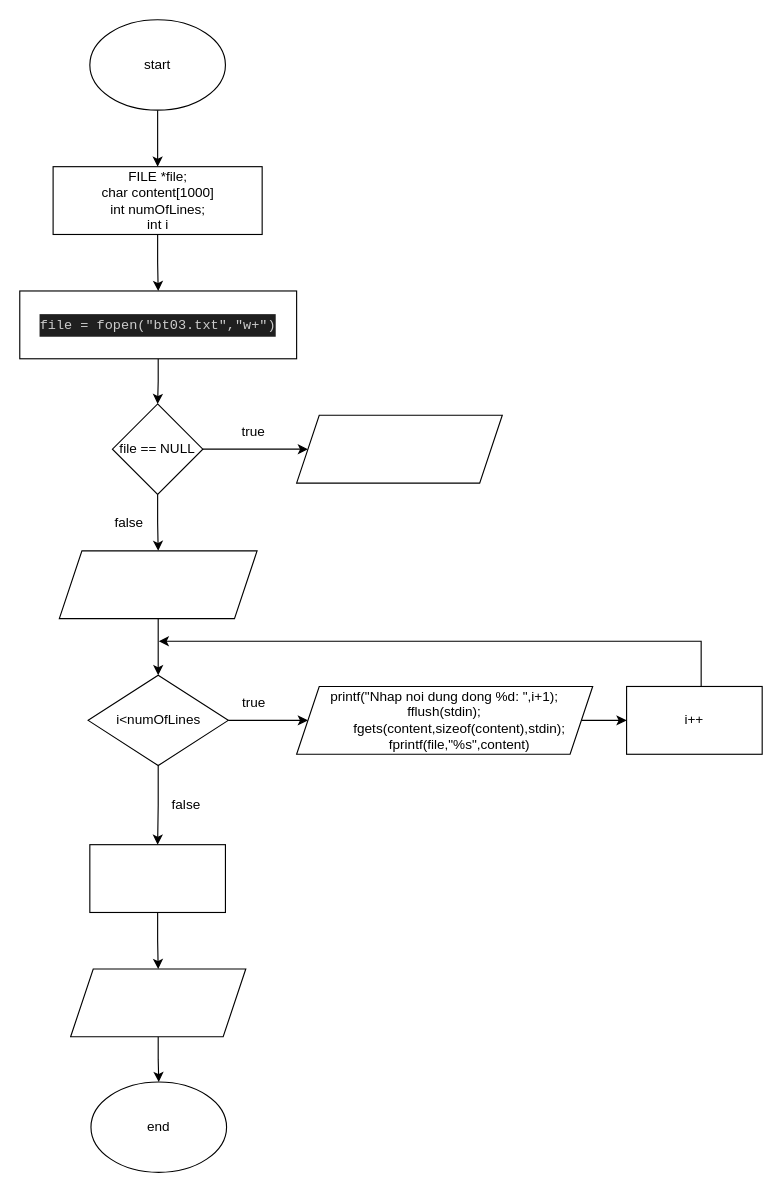
Some shapes in this 782 by 1192 pixel diagram are drawn without their labels. The shapes that lost their labels are listed below. From the top down, each one's box as (x1, y1, x2, y2) in pixels, then its label:
(295, 414, 502, 483): printf("Khong the mo file!")
(58, 550, 257, 619): printf("Nhap so dong: "); scanf("%d",&numOfLines)
(89, 844, 225, 912): fclose(file)
(69, 968, 246, 1037): printf("Chuoi da duoc ghi vao file!")
